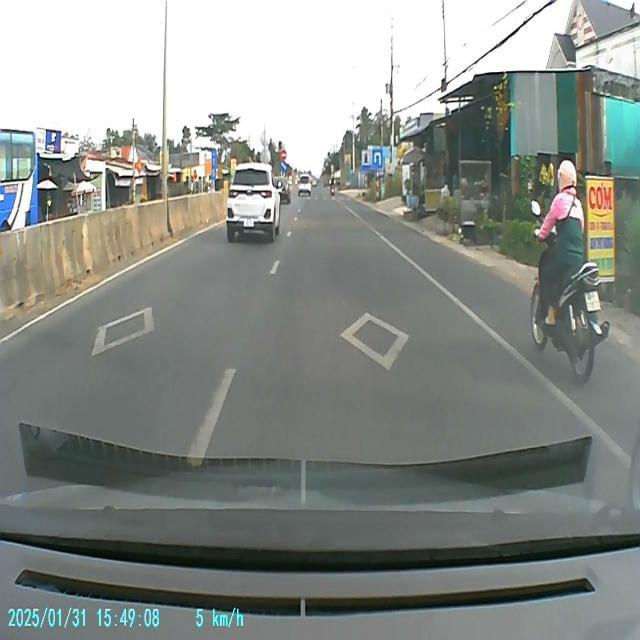102-cam-di-nguoc-chieu: (280, 148, 287, 162)
302a-huong-phai-di-vong-chuong-ngai-vat-1: (280, 162, 288, 174)
